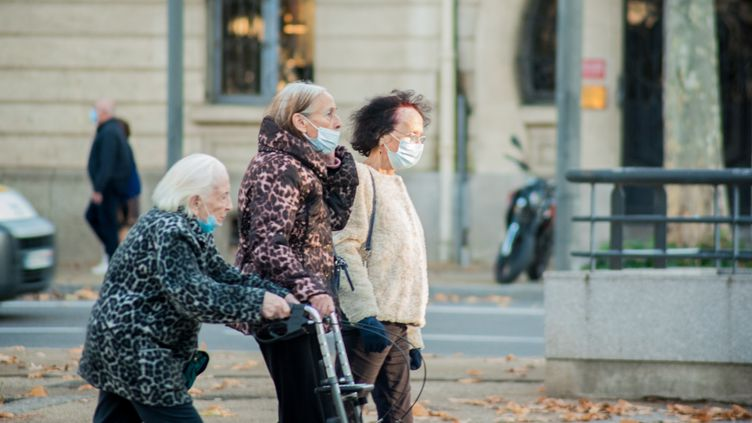with_incorrect_mask: (198, 171, 233, 239), (313, 90, 343, 156)
with_mask: (390, 105, 426, 175)
